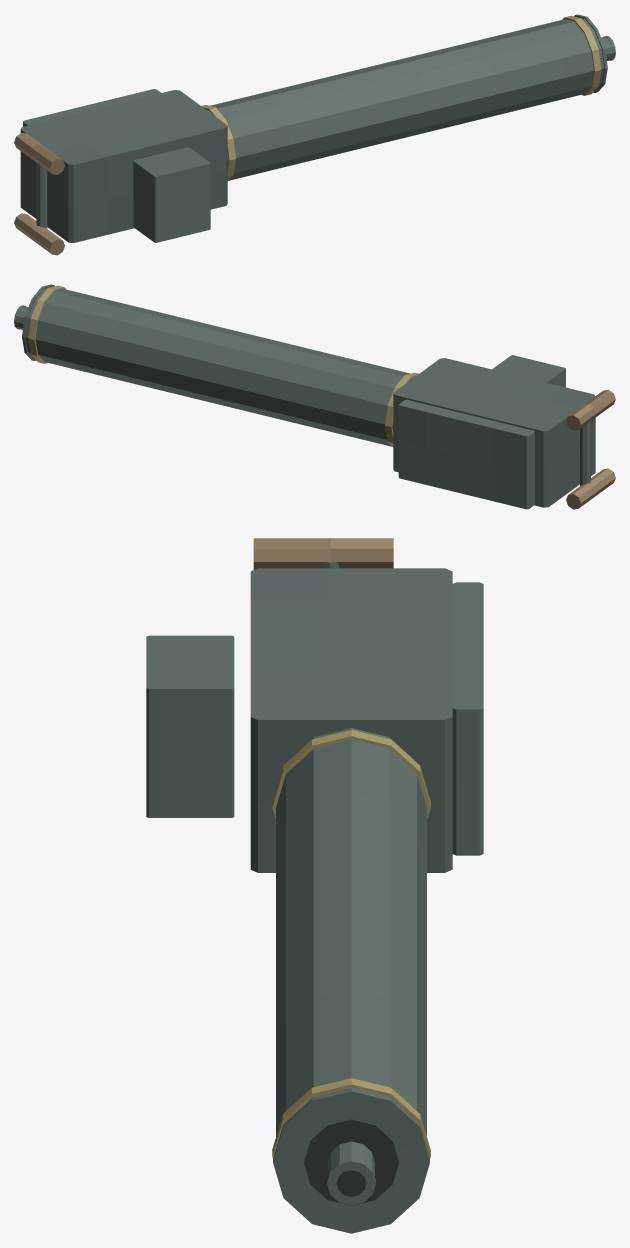
Rendered from weapon-maxim.glb.
3 views of the same model, one above another, from view 1: azimuth 30°, elevation 25°; view 2: azimuth 150°, elevation 25°; view 3: azimuth 270°, elevation 25° (orthographic). The views are drawn at different scales.
Visible parts, largest first — view 1: weapon-maxim/water-jacket, weapon-maxim/large-rear-receiver, weapon-maxim/mounting-base, weapon-maxim/rear-paired-grip--1, weapon-maxim/rear-paired-grip-1, weapon-maxim/raised-top-cover, weapon-maxim/grip-rear-bridge-1, weapon-maxim/jacket-brass-ring-0.47200000000000003, weapon-maxim/jacket-brass-ring--0.193, weapon-maxim/water-jacket-end-rim; view 2: weapon-maxim/water-jacket, weapon-maxim/large-rear-receiver, weapon-maxim/raised-top-cover, weapon-maxim/mounting-base, weapon-maxim/rear-paired-grip--1, weapon-maxim/rear-paired-grip-1, weapon-maxim/jacket-brass-ring-0.47200000000000003, weapon-maxim/grip-rear-bridge-1, weapon-maxim/jacket-brass-ring--0.193, weapon-maxim/water-jacket-end-rim; view 3: weapon-maxim/water-jacket, weapon-maxim/large-rear-receiver, weapon-maxim/mounting-base, weapon-maxim/water-jacket-end-rim, weapon-maxim/raised-top-cover, weapon-maxim/rear-paired-grip--1, weapon-maxim/water-jacket-dark-end, weapon-maxim/jacket-brass-ring--0.193, weapon-maxim/jacket-brass-ring-0.47200000000000003, weapon-maxim/protruding-short-end-end-rim.
Boxes of the visible parts, x1,y1,x2,y2 form: weapon-maxim/water-jacket: (207,16,604,180); weapon-maxim/large-rear-receiver: (20,90,227,242); weapon-maxim/mounting-base: (133,147,210,242); weapon-maxim/rear-paired-grip--1: (14,133,64,174); weapon-maxim/rear-paired-grip-1: (14,213,64,255); weapon-maxim/raised-top-cover: (23,89,160,126); weapon-maxim/grip-rear-bridge-1: (36,163,47,228); weapon-maxim/jacket-brass-ring-0.47200000000000003: (562,16,601,95); weapon-maxim/jacket-brass-ring--0.193: (201,105,235,181); weapon-maxim/water-jacket-end-rim: (574,14,607,92); weapon-maxim/water-jacket: (25,286,412,446); weapon-maxim/large-rear-receiver: (393,358,595,507); weapon-maxim/raised-top-cover: (398,399,534,509); weapon-maxim/mounting-base: (492,355,565,387); weapon-maxim/rear-paired-grip--1: (566,389,615,430); weapon-maxim/rear-paired-grip-1: (566,468,615,509); weapon-maxim/jacket-brass-ring-0.47200000000000003: (28,285,66,363); weapon-maxim/grip-rear-bridge-1: (580,421,590,485); weapon-maxim/jacket-brass-ring--0.193: (385,372,418,447); weapon-maxim/water-jacket-end-rim: (22,284,54,360); weapon-maxim/water-jacket: (276,728,426,1136); weapon-maxim/large-rear-receiver: (250,568,452,872); weapon-maxim/mounting-base: (146,635,234,817); weapon-maxim/water-jacket-end-rim: (273,1088,429,1233); weapon-maxim/raised-top-cover: (452,582,483,855); weapon-maxim/rear-paired-grip--1: (253,538,393,569); weapon-maxim/water-jacket-dark-end: (304,1119,398,1205); weapon-maxim/jacket-brass-ring--0.193: (272,730,430,819); weapon-maxim/jacket-brass-ring-0.47200000000000003: (272,1078,430,1158); weapon-maxim/protruding-short-end-end-rim: (327,1158,375,1205).
Size of the model in its own units: 1.07 by 0.168 by 0.272.
Materials: 4 (4 with a texture image).
